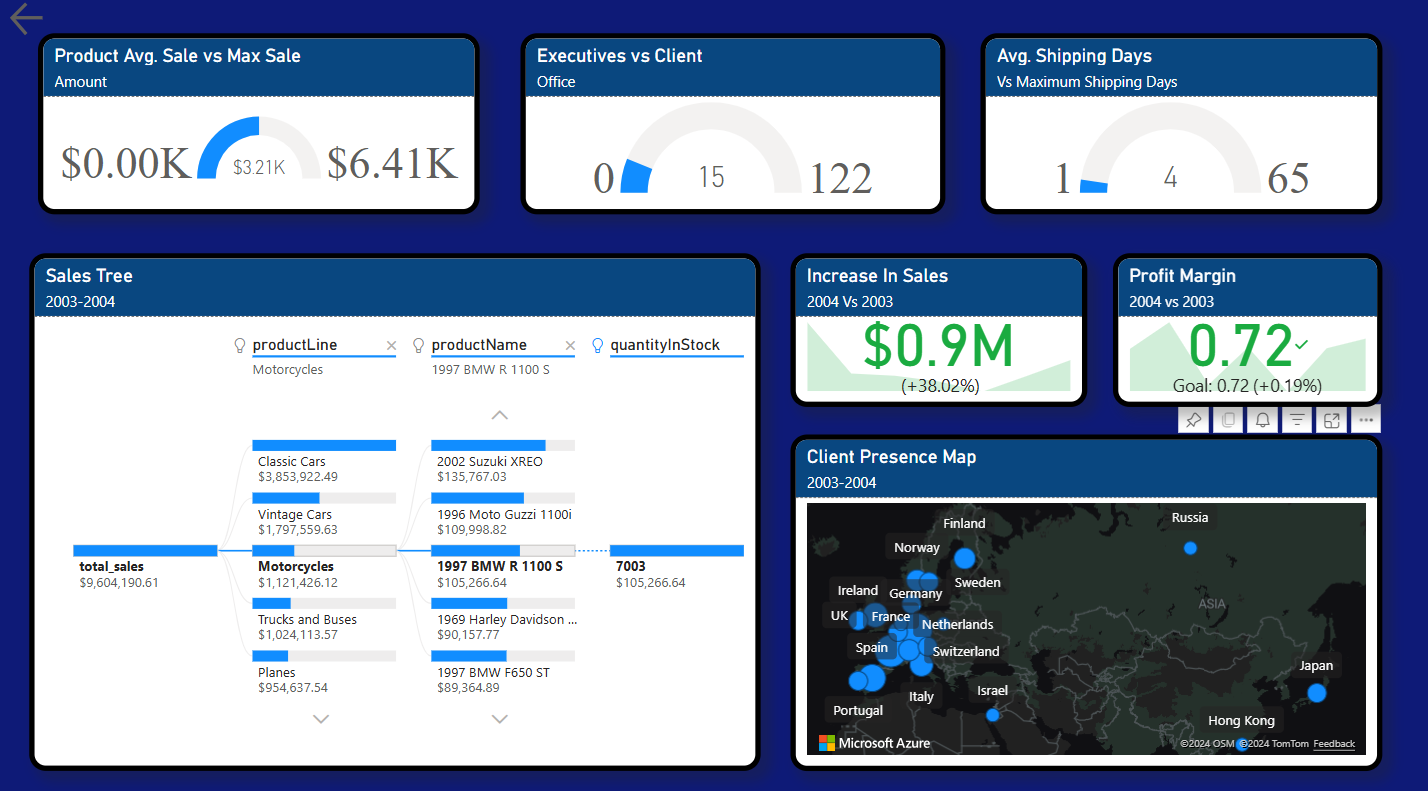

What the dashboard file says about the page in this screenshot:
{"tool":"powerbi","page":{"name":"Page 2","canvas":[1280,720],"ordinal":1},"visuals":[{"type":"kpi","title":"Increase In Sales ","fields":{"Indicator":["orders.sales_2004"],"Goal":["orders.sales_2003"],"TrendLine":["products.productLine"]},"box":[722.1,232.6,268.6,139.5],"z":0},{"type":"azureMap","title":"Client Presence Map","fields":{"Category":["customers.country"],"Size":["CountNonNull(customers.customerNumber)"]},"box":[722.1,396.5,536,304.7],"z":1000},{"type":"gauge","title":"Executives vs Client","fields":{"MaxValue":["Count(customers.customerName)"],"Y":["Count(customers.salesRepEmployeeNumber)"]},"box":[477.9,32.6,384.9,164],"z":2000},{"type":"gauge","title":"Product Avg. Sale vs Max Sale","fields":{"Y":["Avg(order_details.Each_Prodouct_Sales)"],"TargetValue":["order_details.MaxSalesAmount"]},"box":[40.7,32.6,400,164],"z":3000},{"type":"decompositionTreeVisual","title":"Sales Tree","fields":{"Analyze":["order_details.total_sales"],"ExplainBy":["products.productLine","products.productName","products.quantityInStock"]},"box":[32.6,232.6,662.8,468.6],"z":4000},{"type":"gauge","title":"Avg. Shipping Days","fields":{"Y":["orders.AVG_Shipping_days"],"MaxValue":["Max(orders.Shipping_days)"],"MinValue":["Min(orders.Shipping_days)"]},"box":[894.2,32.6,364,164],"z":5000},{"type":"kpi","title":"Profit Margin","fields":{"Indicator":["orders.Margin_04"],"Goal":["orders.Margin_03"],"TrendLine":["products.productLine"]},"box":[1014,232.6,244.2,139.5],"z":6000},{"type":"actionButton","box":[11.6,0,40.7,39.5],"z":7000}]}

Visuals, with their boxes in screenshot pixels (x1, y1, x2, y2), scaled from the page's 1280x720 canvas onto the 1428x791 screenshot:
"Increase In Sales " kpi: 806, 256, 1105, 409
"Client Presence Map" azureMap: 806, 436, 1404, 770
"Executives vs Client" gauge: 533, 36, 963, 216
"Product Avg. Sale vs Max Sale" gauge: 45, 36, 492, 216
"Sales Tree" decompositionTreeVisual: 36, 256, 776, 770
"Avg. Shipping Days" gauge: 998, 36, 1404, 216
"Profit Margin" kpi: 1131, 256, 1404, 409
actionButton: 13, 0, 58, 43
